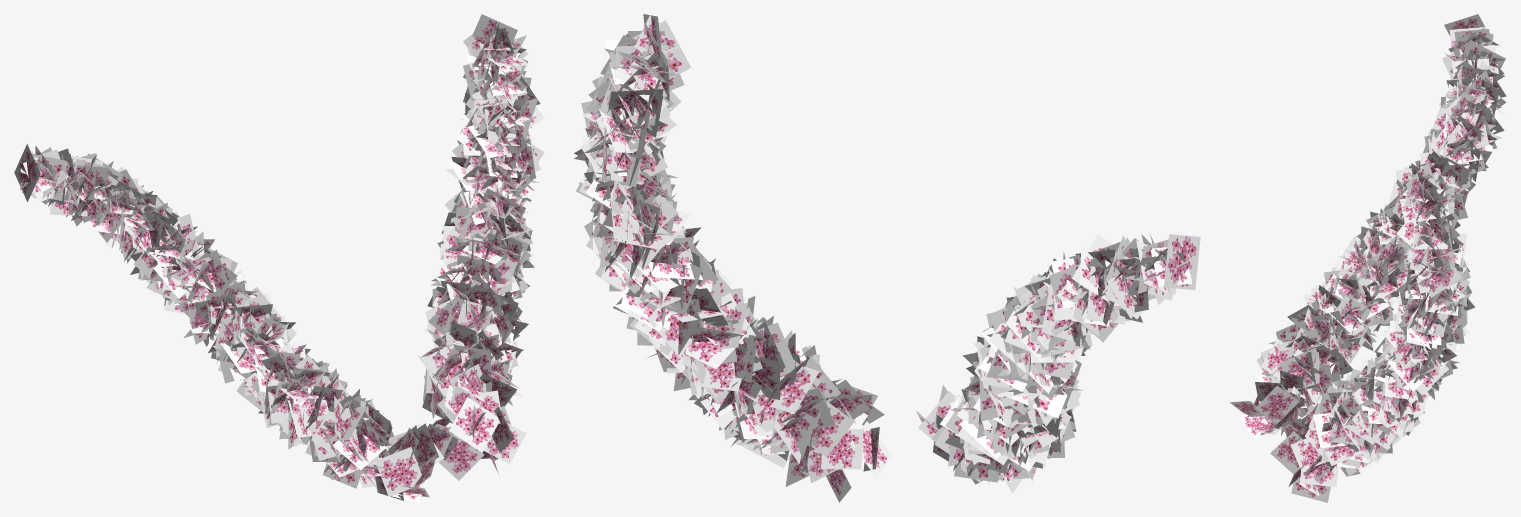
Rendered from BranchFlowers01_Art.fbx.
The picture shows the model from 3 angles, left to right: view 1: azimuth 30°, elevation 25°; view 2: azimuth 150°, elevation 25°; view 3: azimuth 270°, elevation 25°; orthographic projection. The views are drawn at different scales.
Parts seen in each view (by area): view 1: BranchFlowers01_Art; view 2: BranchFlowers01_Art; view 3: BranchFlowers01_Art.
Boxes of the visible parts, x1,y1,x2,y2 form: BranchFlowers01_Art: [14, 14, 544, 502]; BranchFlowers01_Art: [574, 14, 1200, 502]; BranchFlowers01_Art: [1230, 14, 1506, 502].
Bounding box in the file's own units: 15.6 × 12.08 × 8.28.
